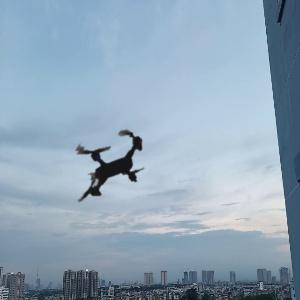drone: (45, 99, 177, 231)
